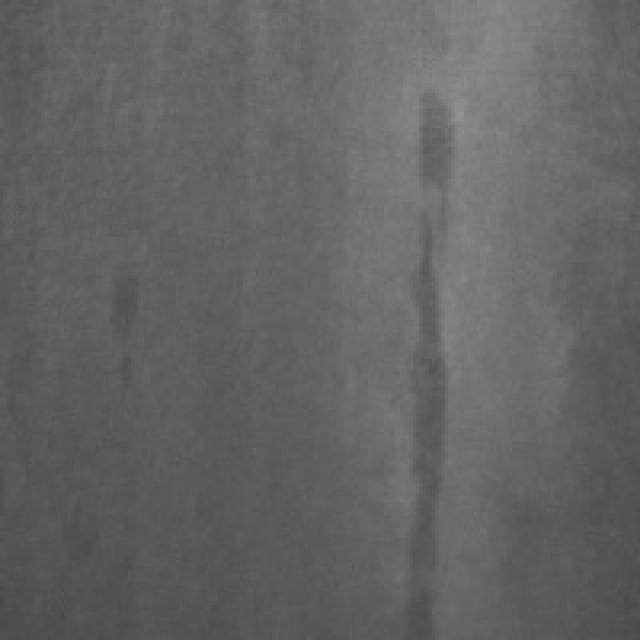inclusion: (378, 176, 464, 634), (394, 74, 467, 304), (86, 249, 154, 406)
